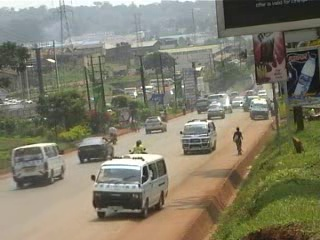Car: (75, 135, 115, 163), (141, 116, 168, 135), (206, 102, 228, 120), (229, 94, 244, 111), (219, 96, 232, 112)
Motorcycle: (129, 149, 147, 155), (109, 133, 118, 143)
